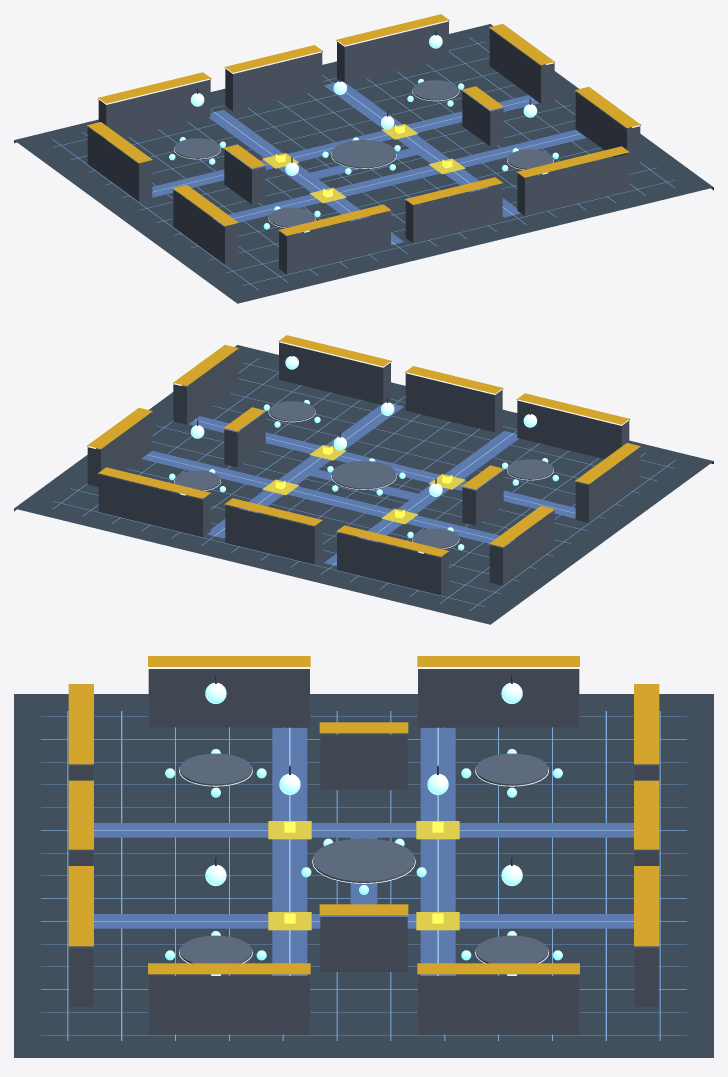
Rendered from library_model.glb.
3 renders of one model, top to bottom at view 1: azimuth 30°, elevation 25°; view 2: azimuth 150°, elevation 25°; view 3: azimuth 270°, elevation 25°, orthographic. The views are drawn at different scales.
Visible parts, largest first — view 1: Node_Floor_Dark, Node_Bookshelf_Body, Node_Lane_Walkway, Node_Bookshelf_Trim, Node_Table_Top, Node_Floor_Grid, Node_Junction_Sensor_Floor, Node_AP_Ceiling_Node, Node_Lane_Guideline, Node_User_Patron_Dot; view 2: Node_Floor_Dark, Node_Bookshelf_Body, Node_Lane_Walkway, Node_Bookshelf_Trim, Node_Table_Top, Node_Floor_Grid, Node_Junction_Sensor_Floor, Node_AP_Ceiling_Node, Node_Lane_Guideline, Node_User_Patron_Dot; view 3: Node_Floor_Dark, Node_Bookshelf_Body, Node_Lane_Walkway, Node_Bookshelf_Trim, Node_Table_Top, Node_Floor_Grid, Node_Junction_Sensor_Floor, Node_AP_Ceiling_Node, Node_Lane_Guideline, Node_User_Patron_Dot.
Part boxes in pixels (x1,y1,x2,y2): Node_Floor_Dark: [14, 24, 713, 303]; Node_Bookshelf_Body: [87, 21, 640, 274]; Node_Lane_Walkway: [152, 82, 586, 244]; Node_Bookshelf_Trim: [87, 14, 640, 235]; Node_Table_Top: [174, 80, 553, 228]; Node_Floor_Grid: [52, 37, 675, 289]; Node_Junction_Sensor_Floor: [262, 124, 465, 203]; Node_AP_Ceiling_Node: [190, 35, 537, 175]; Node_Lane_Guideline: [152, 83, 580, 244]; Node_User_Patron_Dot: [169, 79, 558, 232]; Node_Floor_Dark: [14, 345, 713, 624]; Node_Bookshelf_Body: [87, 342, 640, 595]; Node_Lane_Walkway: [141, 403, 575, 565]; Node_Bookshelf_Trim: [87, 335, 640, 556]; Node_Table_Top: [174, 401, 553, 549]; Node_Floor_Grid: [52, 358, 675, 610]; Node_Junction_Sensor_Floor: [262, 445, 465, 524]; Node_AP_Ceiling_Node: [190, 356, 537, 496]; Node_Lane_Guideline: [147, 404, 575, 565]; Node_User_Patron_Dot: [169, 400, 558, 553]; Node_Floor_Dark: [14, 694, 713, 1057]; Node_Bookshelf_Body: [69, 669, 658, 1034]; Node_Lane_Walkway: [94, 728, 633, 975]; Node_Bookshelf_Trim: [68, 656, 659, 974]; Node_Table_Top: [179, 753, 548, 963]; Node_Floor_Grid: [41, 711, 686, 1040]; Node_Junction_Sensor_Floor: [268, 821, 459, 930]; Node_AP_Ceiling_Node: [205, 682, 522, 886]; Node_Lane_Guideline: [94, 727, 633, 975]; Node_User_Patron_Dot: [165, 749, 562, 975].
Size of the model in its own units: 64 by 9.4 by 52.
